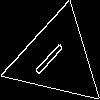I: (31, 34, 73, 77)
